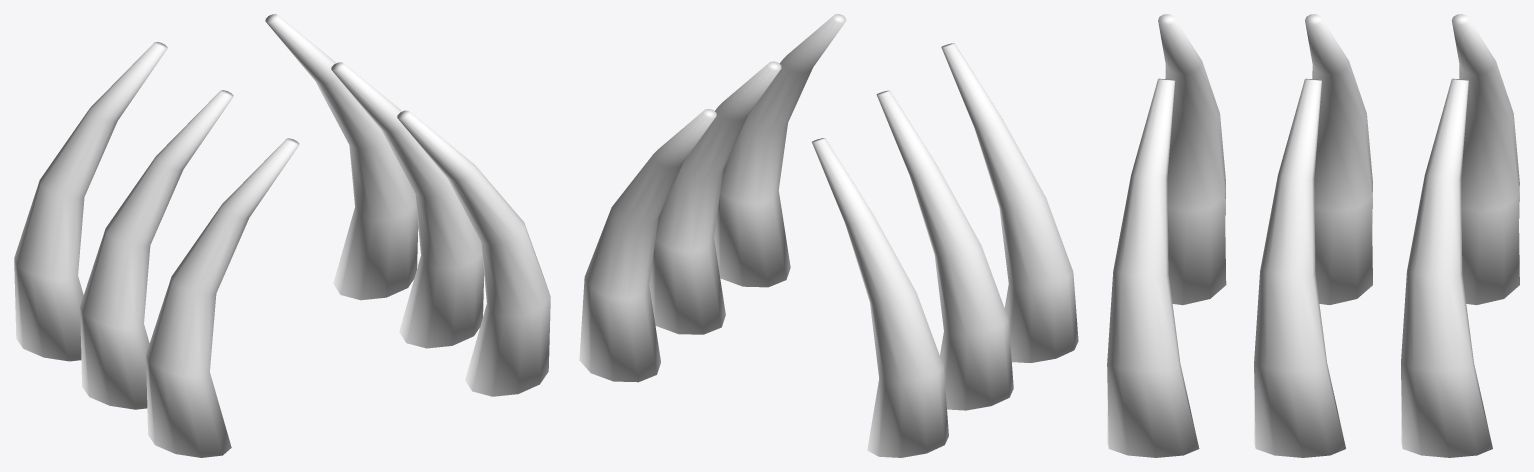
File: Bones001.fbx
3 renders of one model, left to right at view 1: azimuth 30°, elevation 25°; view 2: azimuth 150°, elevation 25°; view 3: azimuth 270°, elevation 25°, orthographic. The views are drawn at different scales.
Visible parts, largest first — view 1: Bones001; view 2: Bones001; view 3: Bones001.
Part boxes in pixels (left/top/right/bottom): Bones001: left=14, top=14, right=550, bottom=457; Bones001: left=579, top=14, right=1078, bottom=457; Bones001: left=1107, top=14, right=1519, bottom=457.
Size of the model in its own units: 132 by 96.6 by 112.
